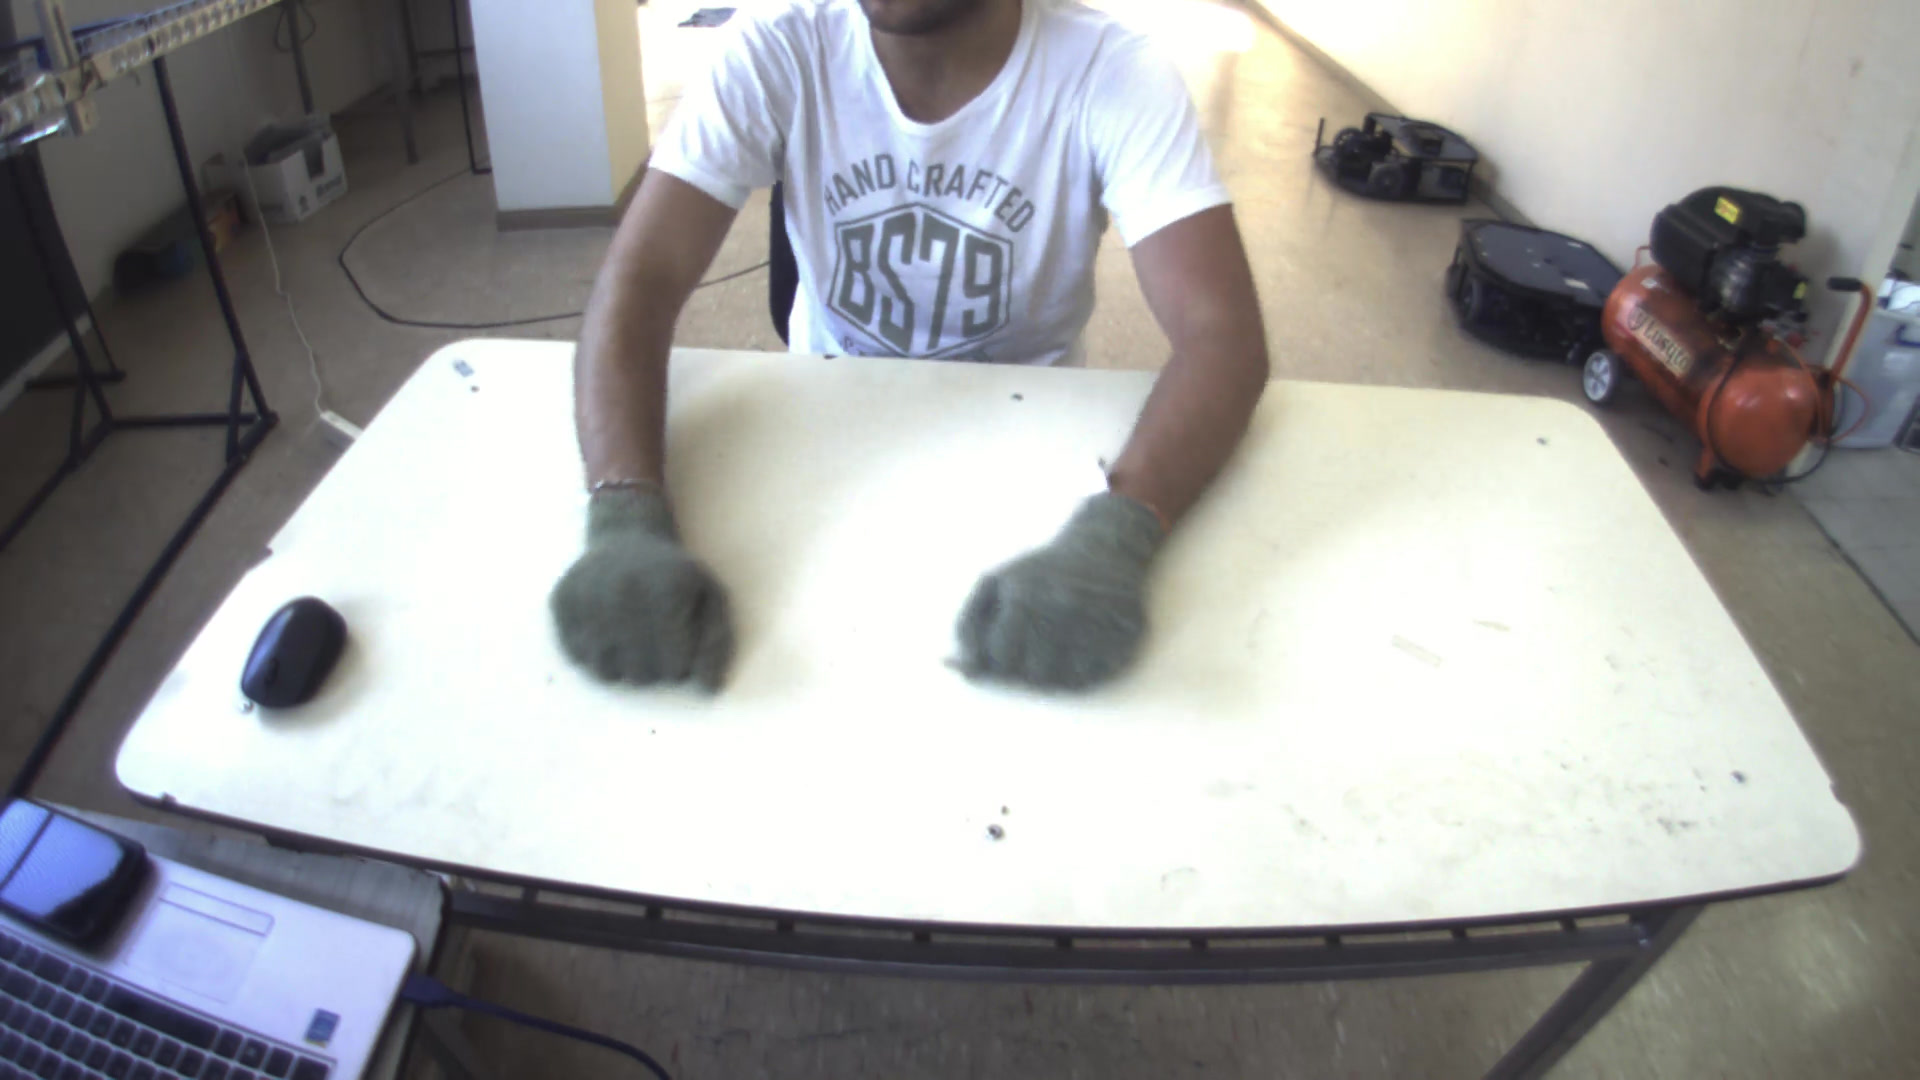hand: (944, 480, 1171, 694), (530, 476, 738, 695)
